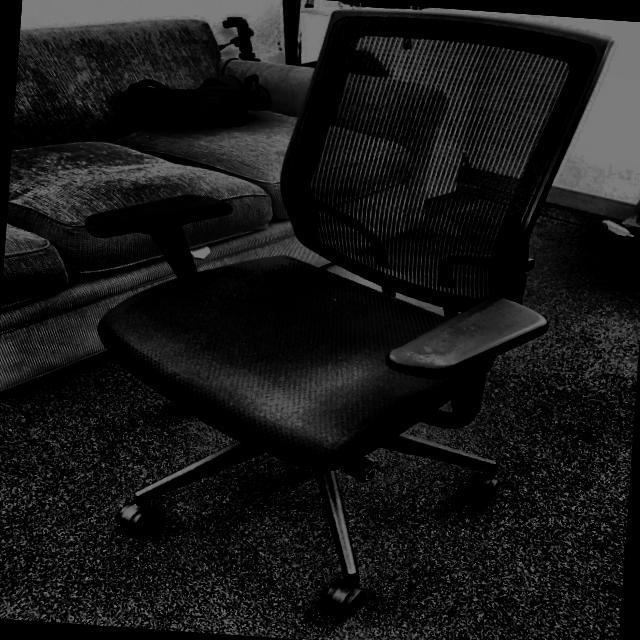chair: (54, 0, 610, 635)
